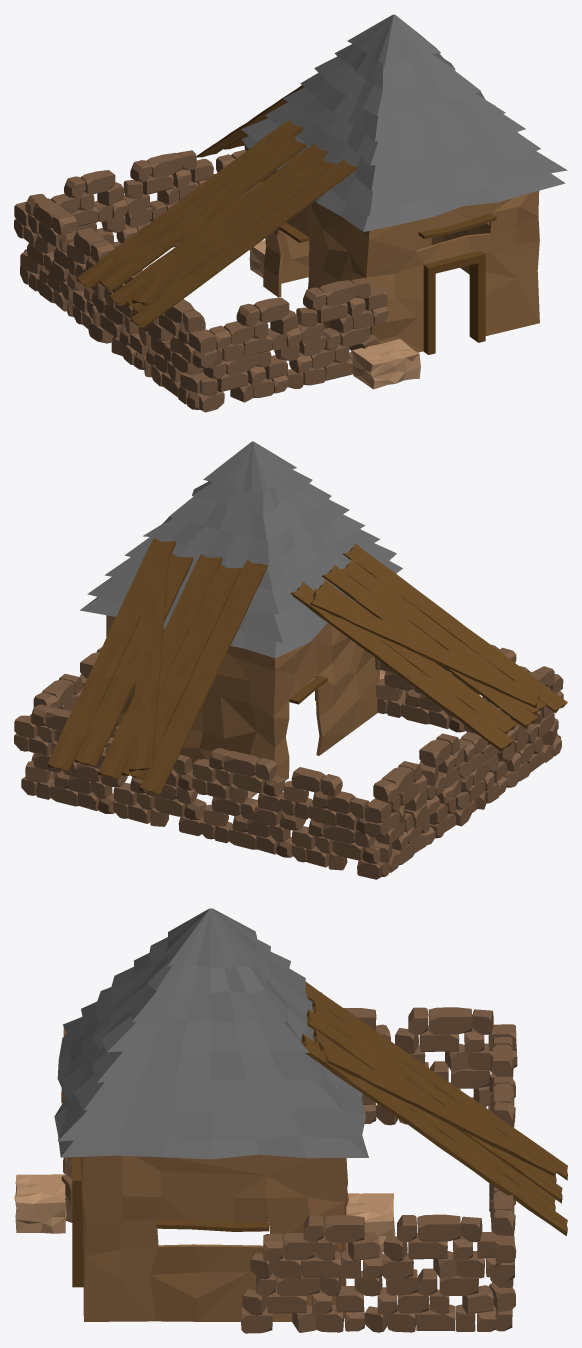
File: Mali_C.fbx
3 views of the same model, one above another, from view 1: azimuth 30°, elevation 25°; view 2: azimuth 150°, elevation 25°; view 3: azimuth 270°, elevation 25° (orthographic). The views are drawn at different scales.
Parts seen in each view (by area): view 1: MaliC; view 2: MaliC; view 3: MaliC.
Boxes of the visible parts, bbox=[...] form: MaliC: bbox=[14, 14, 567, 412]; MaliC: bbox=[14, 441, 567, 879]; MaliC: bbox=[14, 908, 567, 1333].
Size of the model in its own units: 1276 by 887 by 1244.
1 material, 1 textured.
